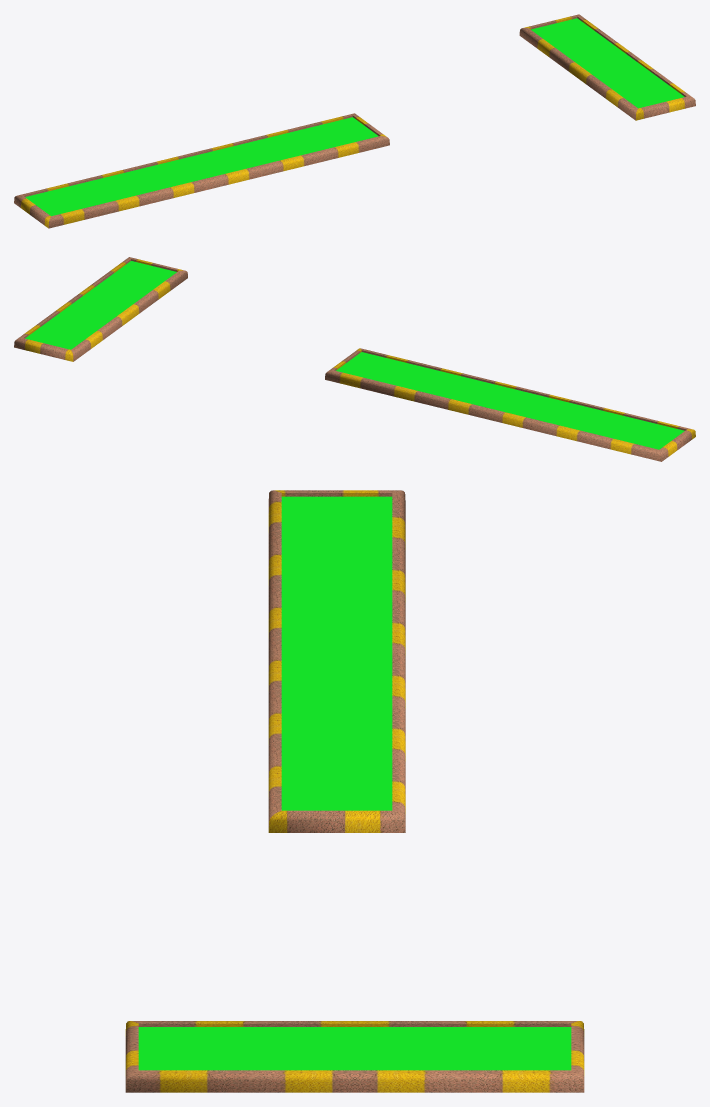
File: flower bed.fbx
3 views of the same model, one above another, from view 1: azimuth 30°, elevation 25°; view 2: azimuth 150°, elevation 25°; view 3: azimuth 270°, elevation 25° (orthographic). The views are drawn at different scales.
Visible parts, largest first — view 1: flower bed, flower bed_1; view 2: flower bed, flower bed_1; view 3: flower bed, flower bed_1.
Boxes of the visible parts, <box> form: flower bed: <box>14,113,389,228</box>; flower bed_1: <box>519,14,695,120</box>; flower bed: <box>325,348,695,461</box>; flower bed_1: <box>14,257,187,361</box>; flower bed: <box>268,490,405,832</box>; flower bed_1: <box>125,1021,584,1092</box>.
Size of the model in its own units: 2656 by 35.21 by 875.
